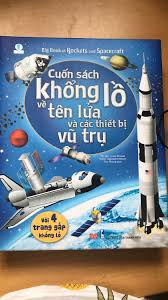ten_lua: (136, 61, 162, 229)
